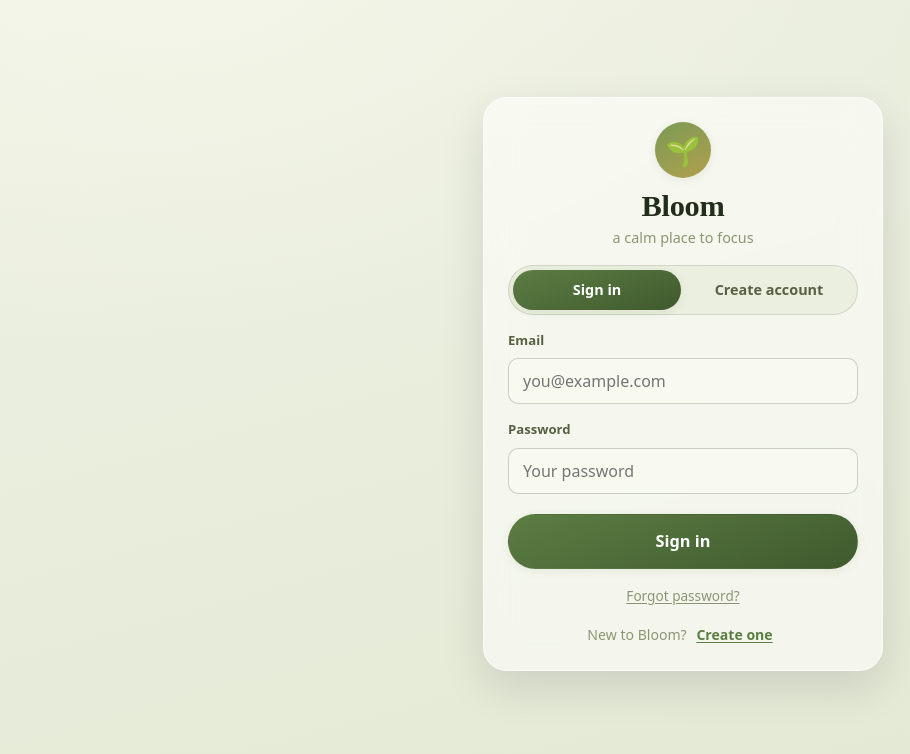
Test: LoginPage › prompts to confirm email after sign-up when no session is returned
This screenshot has width=910, height=754.
Click the tab "Create account" at (769, 290), box [685,270,853,310]
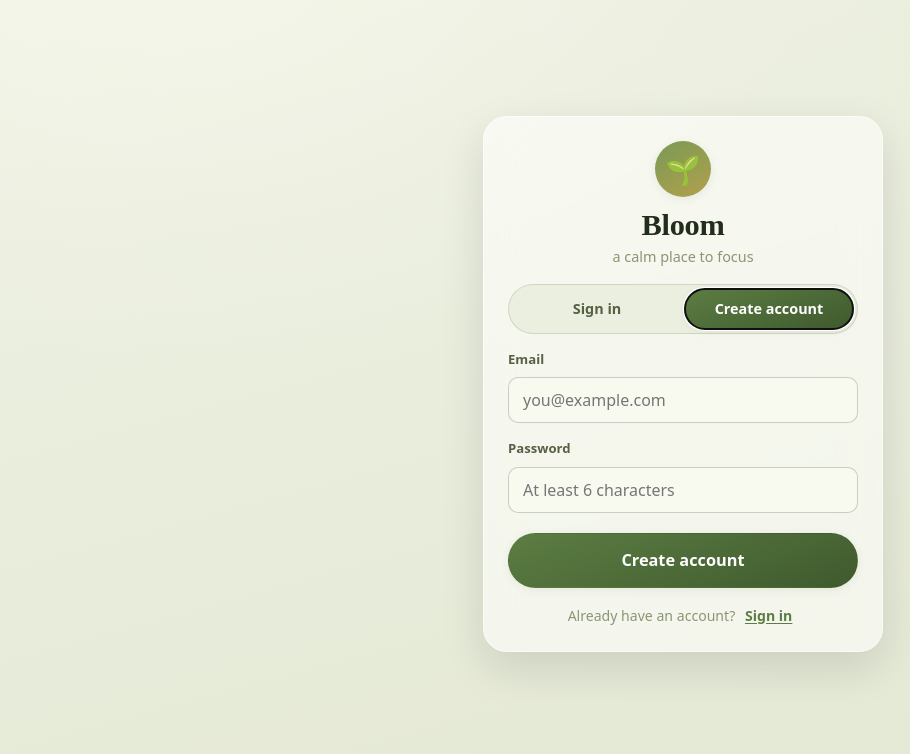
Type "new@example.com" into the field labelled "Email" at (683, 400), box [508,378,858,424]
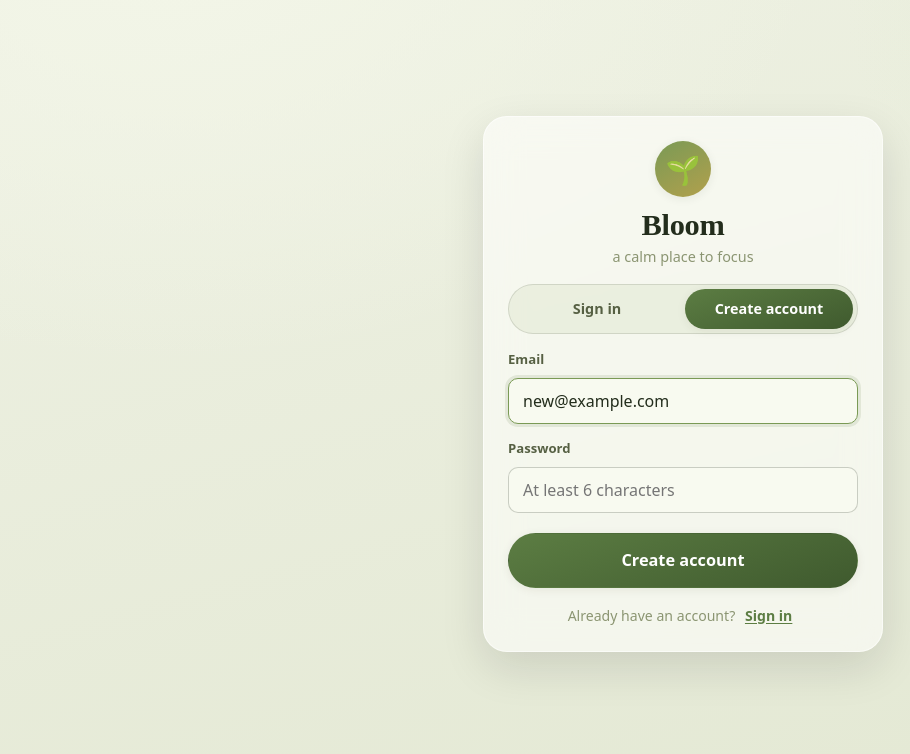
Type "secret123" into the password field labelled "Password" at (683, 490), box [508,467,858,513]
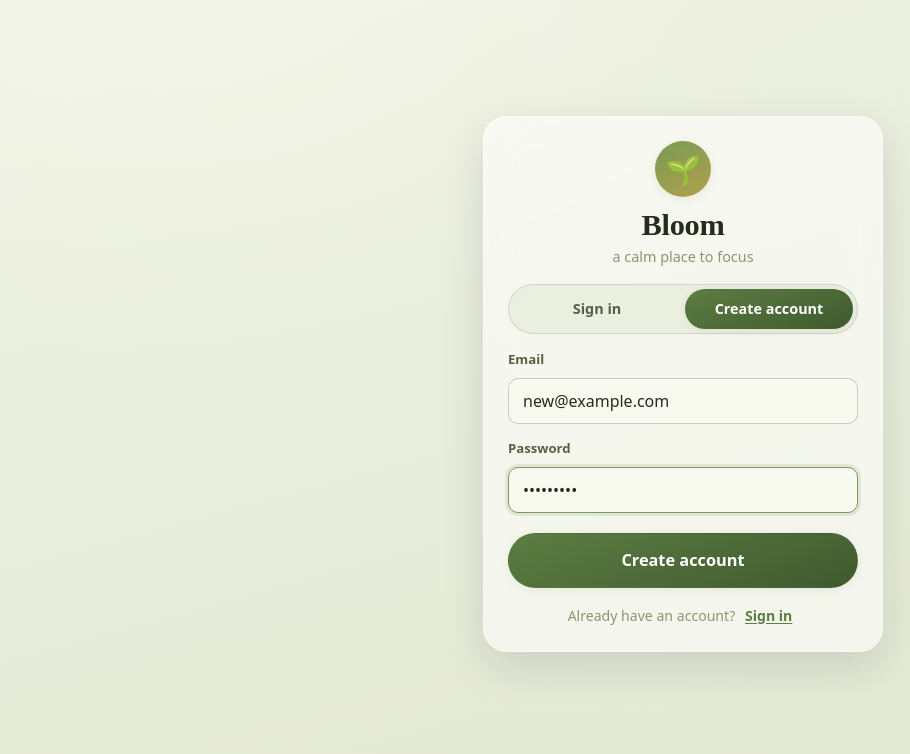
Click the button "Create account" at (683, 560), box [508,533,858,588]
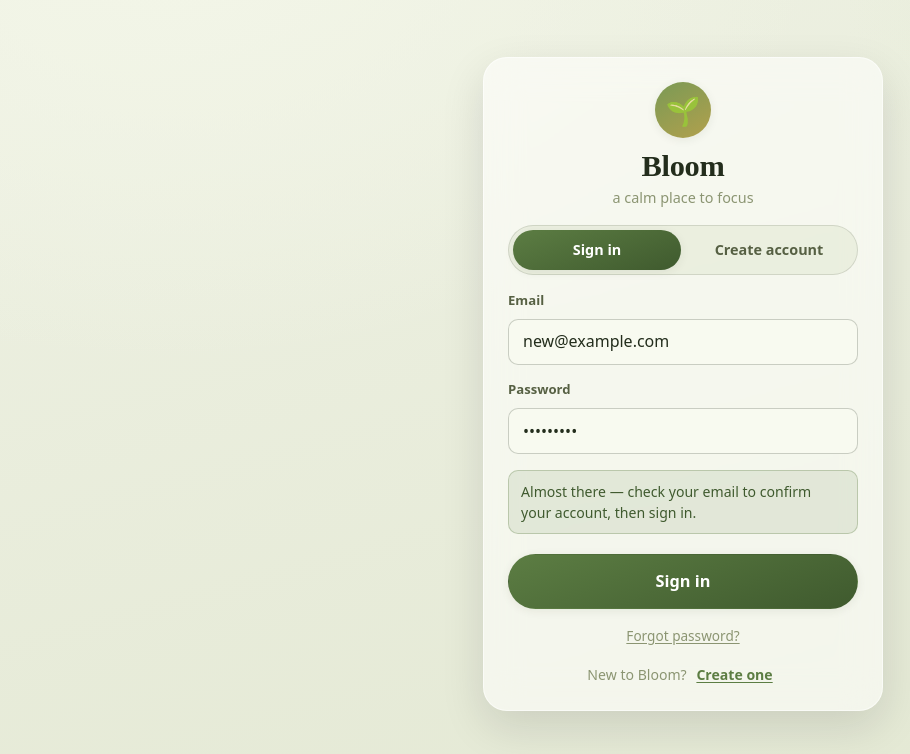
Expected: the message shows "check your email", [521,482,811,522]
